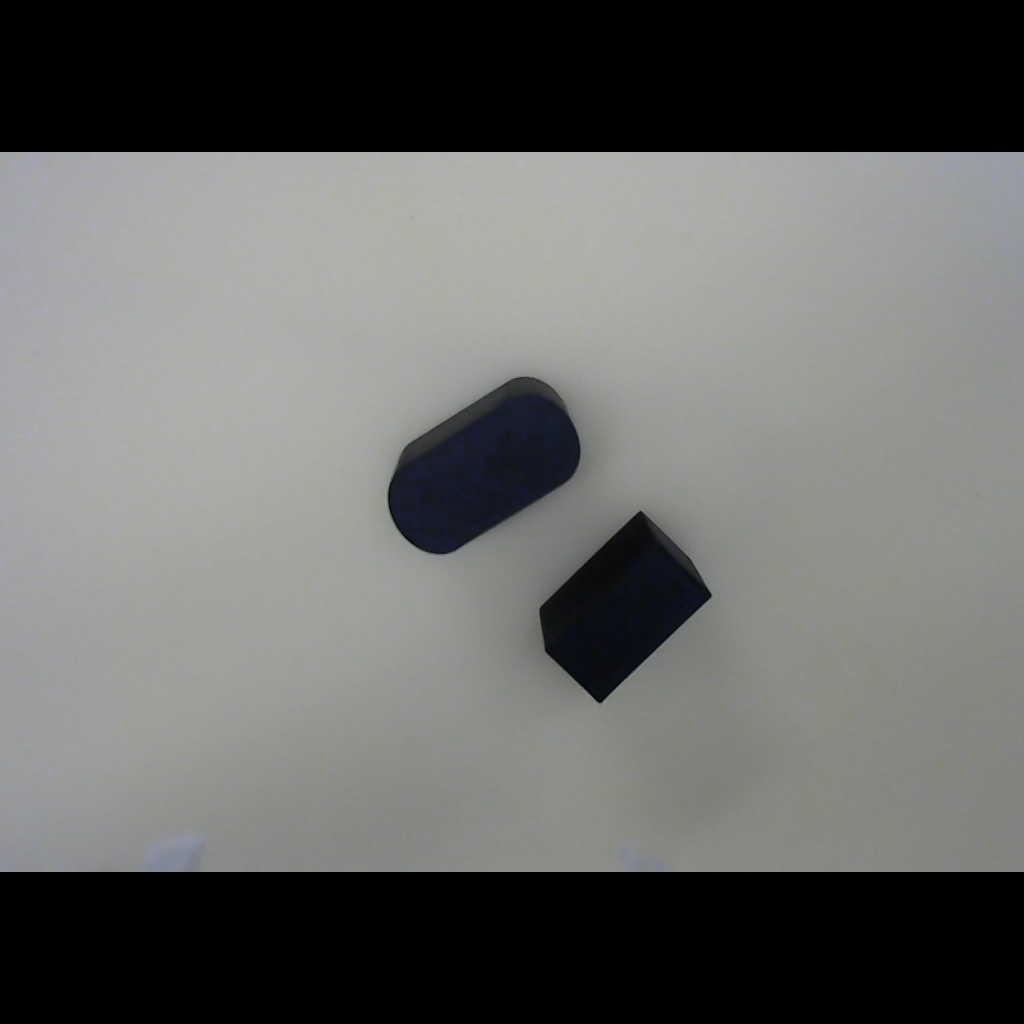oval: (352, 350, 612, 580)
rectangle: (511, 499, 728, 715)
